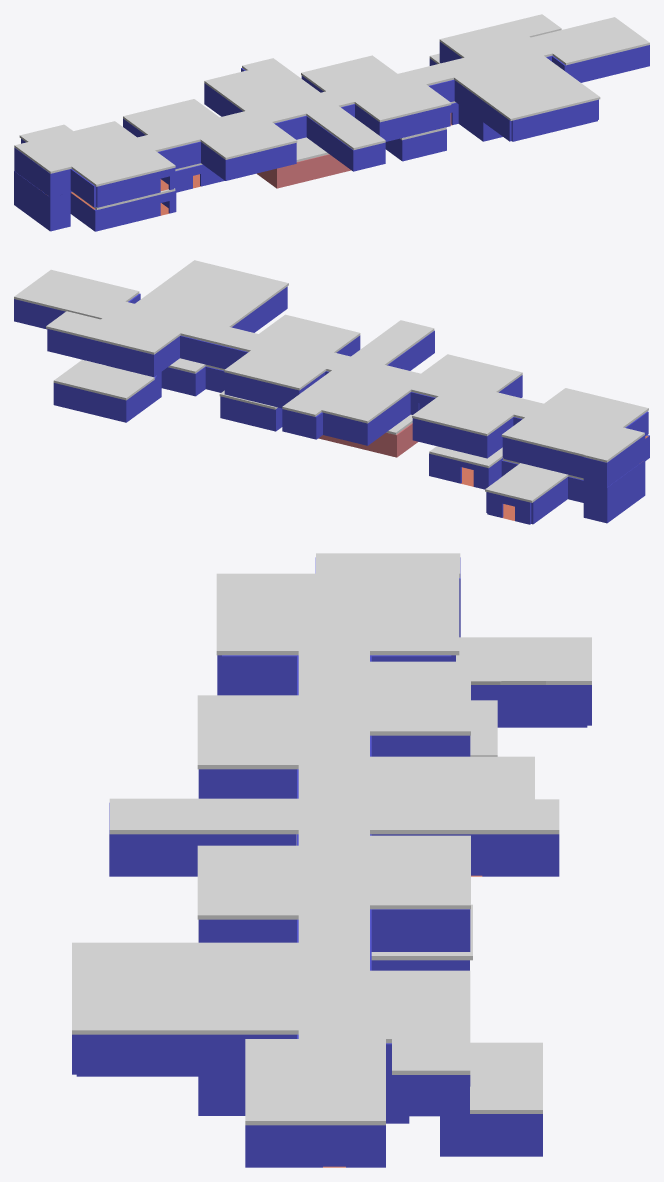
Rendered from Hospital.glb.
The picture shows the model from 3 angles, top to bottom: view 1: azimuth 30°, elevation 25°; view 2: azimuth 150°, elevation 25°; view 3: azimuth 270°, elevation 25°; orthographic projection. The views are drawn at different scales.
Visible parts, largest first — view 1: TechoPasilloSegun-col, TechoBaños-col, TechoRecepcion2-col, PasilloHab2-col, BañosPiso2-col, TechoFinalSeg-col, Lobby1-col, Lobby2-col, Habitacion2-col, TechoHab2-col, TehcoHabJug-col, Pasillo-col (+18 smaller); view 2: TechoPasilloSegun-col, TechoBaños-col, TechoRecepcion2-col, PasilloHab2-col, TechoFinalSeg-col, Consejeria-col, TechoMorgue-col, Morgue-col, Pasillo-col, TechoHab4-col, TechoHab1-col, TechoHab3-col (+23 smaller); view 3: TechoPasilloSegun-col, TechoBaños-col, TechoRecepcion2-col, TechoFinalSeg-col, PasilloHab2-col, BañosPiso2-col, TechoHab2-col, TehcoHabJug-col, TechoHab1-col, TechoHab4-col, TechoHab3-col, TechoPasilloDerecha (+19 smaller).
Boxes of the visible parts, x1,y1,x2,y2 form: TechoPasilloSegun-col: [137, 40, 552, 151]; TechoBaños-col: [454, 55, 600, 120]; TechoRecepcion2-col: [36, 121, 175, 186]; PasilloHab2-col: [157, 55, 552, 171]; BañosPiso2-col: [454, 80, 598, 141]; TechoFinalSeg-col: [531, 17, 649, 65]; Lobby1-col: [70, 190, 176, 231]; Lobby2-col: [70, 168, 175, 207]; Habitacion2-col: [201, 142, 296, 180]; TechoHab2-col: [200, 122, 297, 159]; TehcoHabJug-col: [354, 84, 451, 122]; Pasillo-col: [14, 171, 70, 231]; TechoPasilloSegun-col: [107, 301, 543, 418]; TechoBaños-col: [135, 260, 288, 327]; TechoRecepcion2-col: [501, 388, 648, 456]; PasilloHab2-col: [180, 330, 522, 439]; TechoFinalSeg-col: [14, 269, 139, 319]; Consejeria-col: [47, 329, 179, 376]; TechoMorgue-col: [53, 360, 154, 400]; Morgue-col: [53, 382, 152, 422]; Pasillo-col: [583, 460, 645, 523]; TechoHab4-col: [224, 350, 326, 390]; TechoHab1-col: [412, 396, 513, 436]; TechoHab3-col: [321, 378, 411, 423]; TechoPasilloSegun-col: [298, 651, 369, 1038]; TechoBaños-col: [72, 942, 298, 1034]; TechoRecepcion2-col: [216, 573, 459, 655]; TechoFinalSeg-col: [245, 1039, 385, 1125]; PasilloHab2-col: [109, 656, 559, 1038]; BañosPiso2-col: [72, 1034, 296, 1076]; TechoHab2-col: [197, 695, 298, 769]; TehcoHabJug-col: [197, 845, 298, 919]; TechoHab1-col: [370, 661, 470, 735]; TechoHab4-col: [370, 835, 470, 909]; TechoHab3-col: [370, 756, 534, 799]; TechoPasilloDerecha: [109, 798, 298, 834].
Bounding box in the file's own units: 143 × 14.03 × 55.5.
